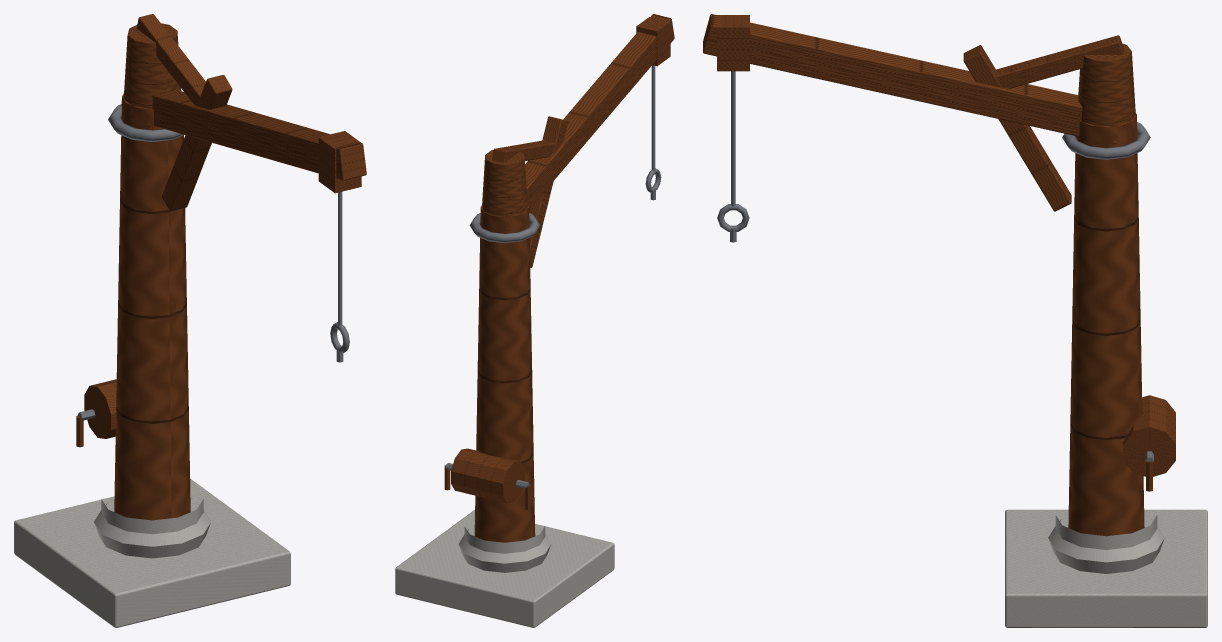
Rendered from canal-quay-crane.glb.
The picture shows the model from 3 angles, left to right: view 1: azimuth 30°, elevation 25°; view 2: azimuth 150°, elevation 25°; view 3: azimuth 270°, elevation 25°; orthographic projection. The views are drawn at different scales.
Parts seen in each view (by area): view 1: canal-quay-crane, jib/oak, jib/iron; view 2: canal-quay-crane, jib/oak, jib/iron; view 3: canal-quay-crane, jib/oak, jib/iron.
Part boxes in pixels (bbox=[...]): canal-quay-crane: bbox=[14, 93, 290, 627]; jib/oak: bbox=[76, 14, 366, 447]; jib/iron: bbox=[78, 191, 349, 420]; canal-quay-crane: bbox=[395, 205, 614, 627]; jib/oak: bbox=[444, 14, 674, 509]; jib/iron: bbox=[445, 65, 661, 488]; canal-quay-crane: bbox=[1005, 113, 1207, 627]; jib/oak: bbox=[703, 14, 1175, 491]; jib/iron: bbox=[717, 71, 1153, 462].
Bounding box in the file's own units: 1.6 × 4.93 × 3.98.
Materials: 3 (2 with a texture image).
